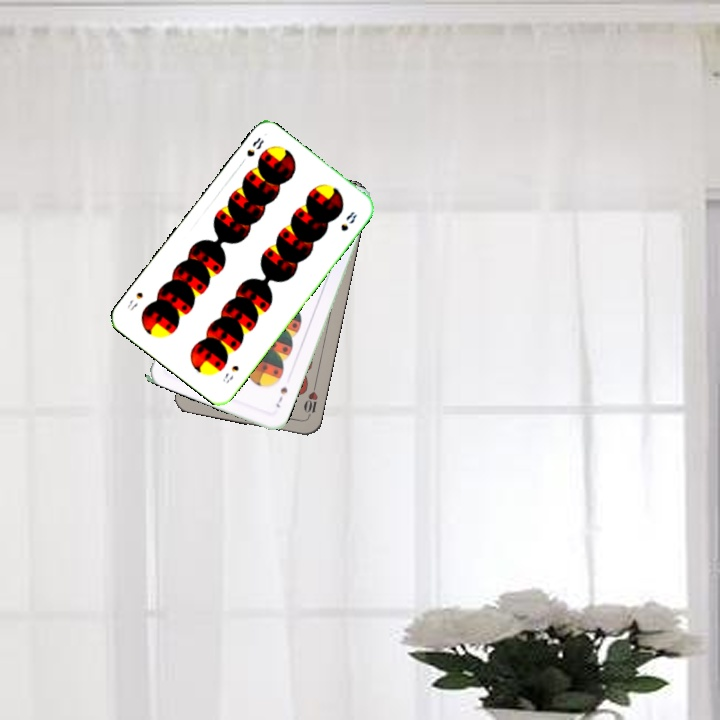H10: (299, 381, 320, 421)
S7: (272, 383, 290, 410)
S8: (243, 133, 267, 159), (218, 361, 241, 386)
